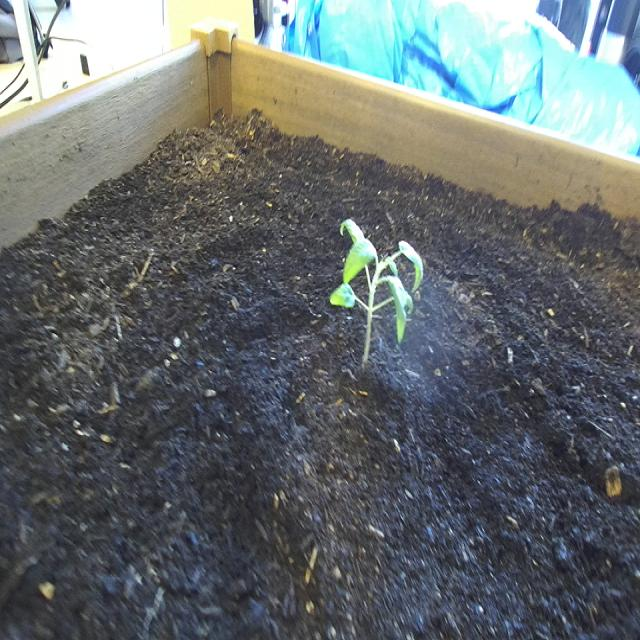Healthy: (328, 210, 426, 373)
